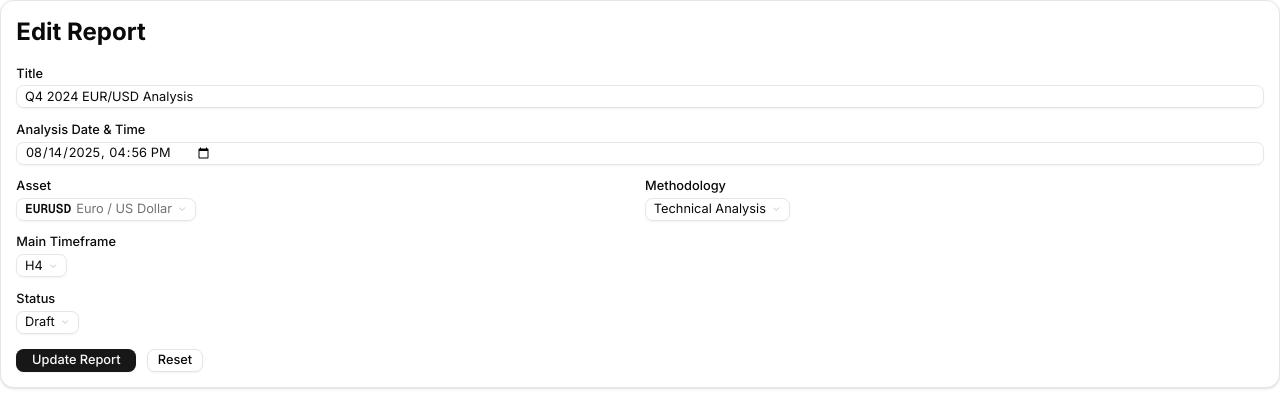
ReportForm › resets form when reset button is clicked
This screenshot has width=1280, height=406.
Change the title value
Step 1. Replace the text in the field labelled "Title" with "CHANGED TITLE" → (640, 97), box 16,86 -> 1264,108
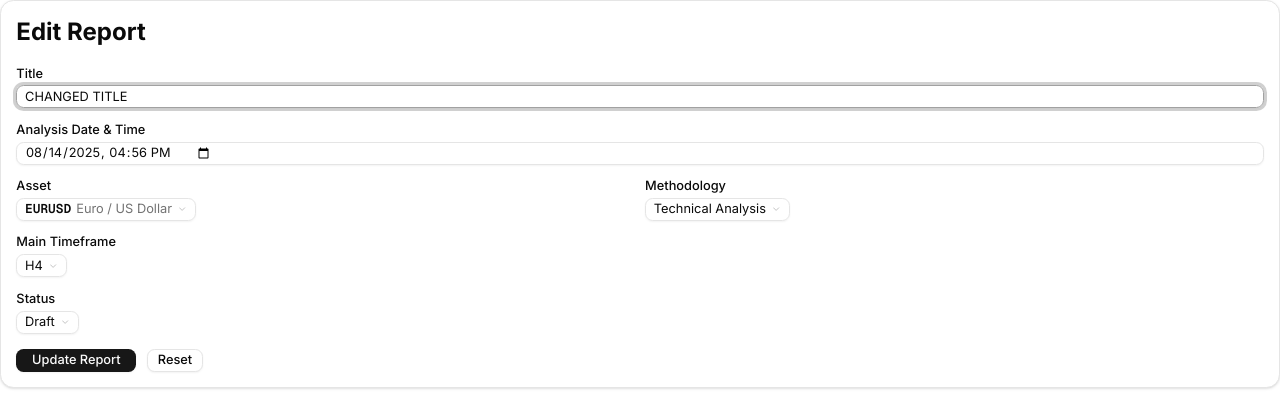
Reset form
Step 2. Click the button "Reset" → (175, 360), box 147,349 -> 204,372
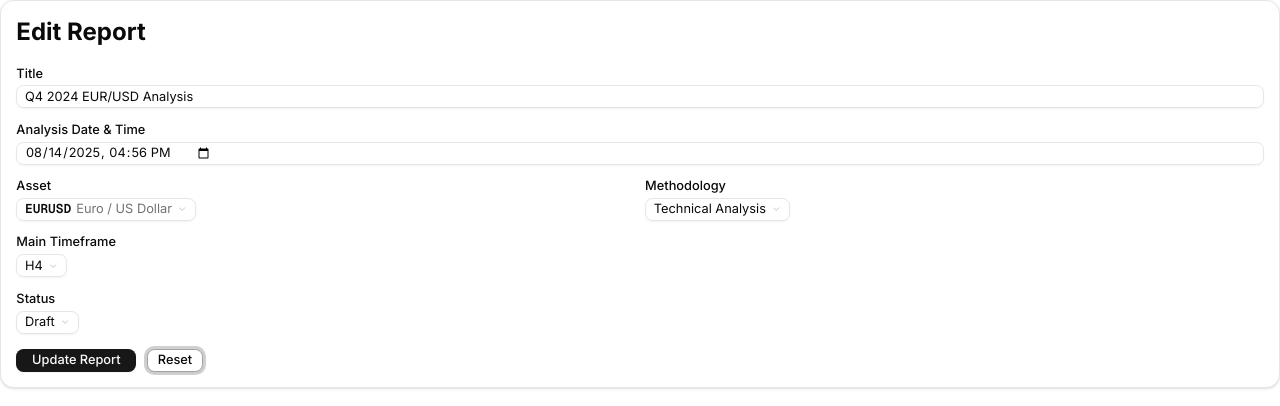
Result: the field labelled "Title" holds "Q4 2024 EUR/USD Analysis" at 16,86 -> 1264,108
